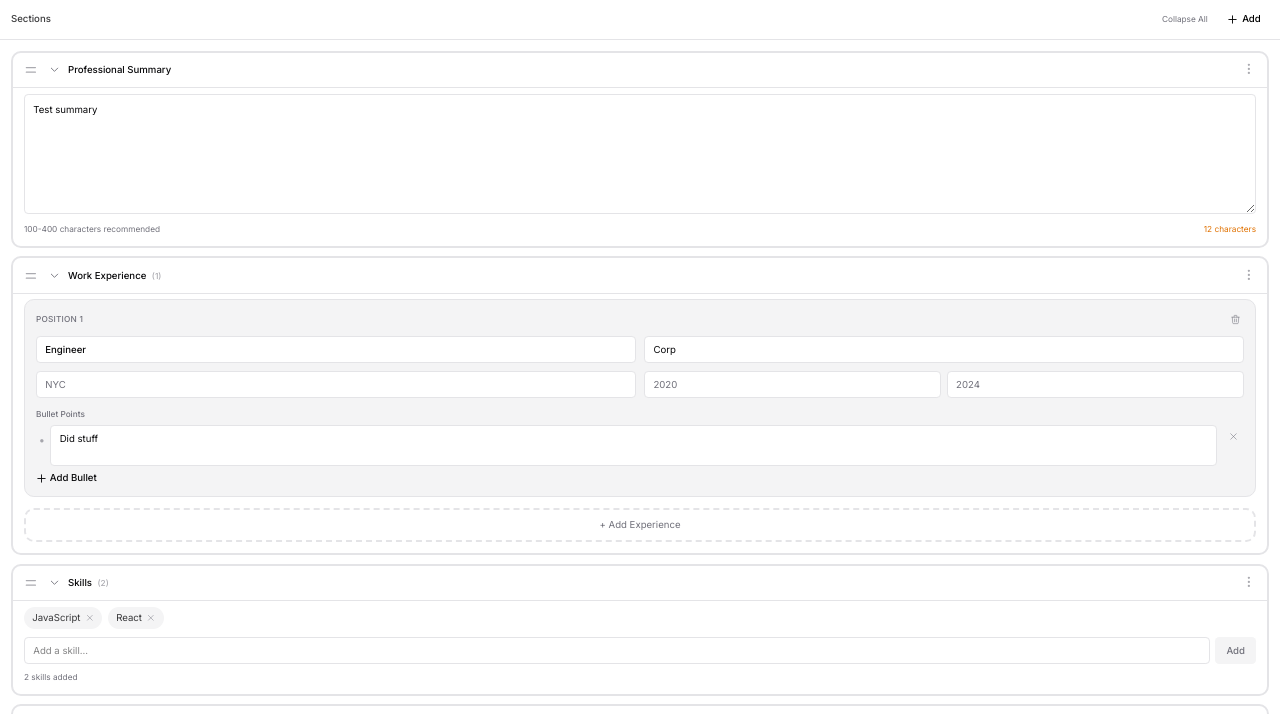
Test: SectionList › collapses all sections when Collapse All is clicked
This screenshot has width=1280, height=714.
Click the button "Collapse All" at (1185, 19), box [1156,11,1213,28]
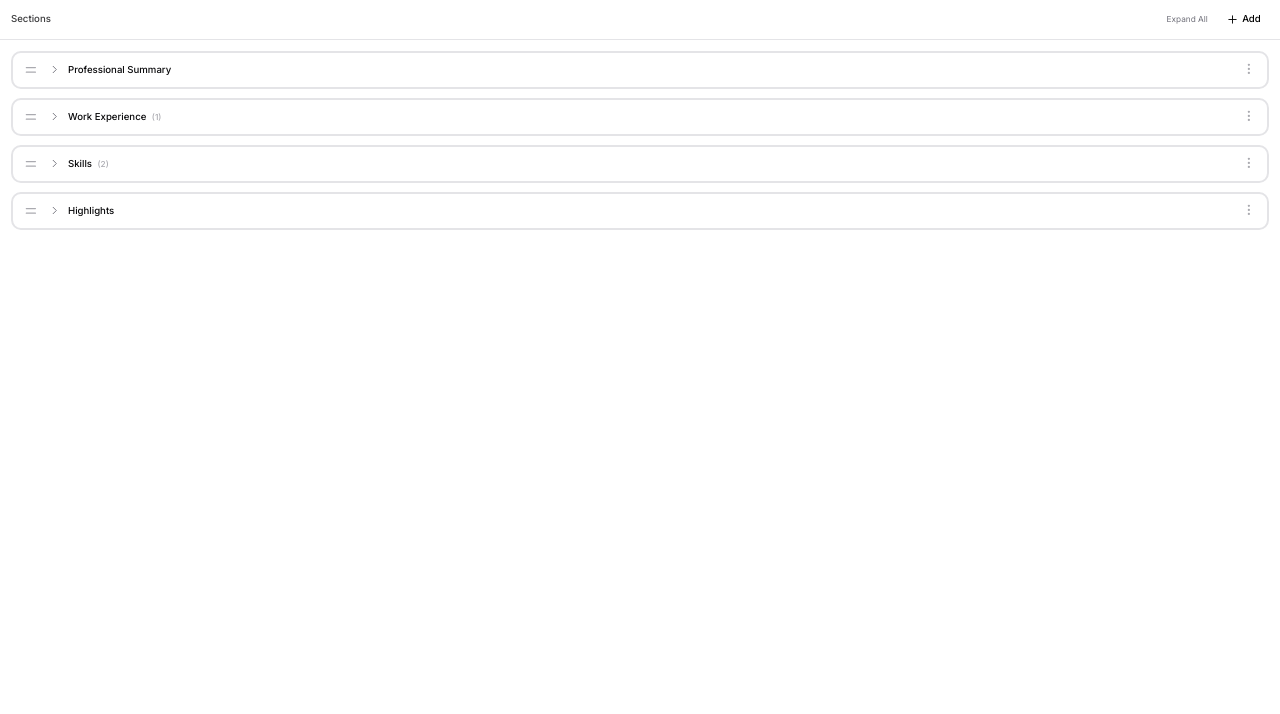
Now the button "Expand All" is shown, box [1161,11,1213,28]
